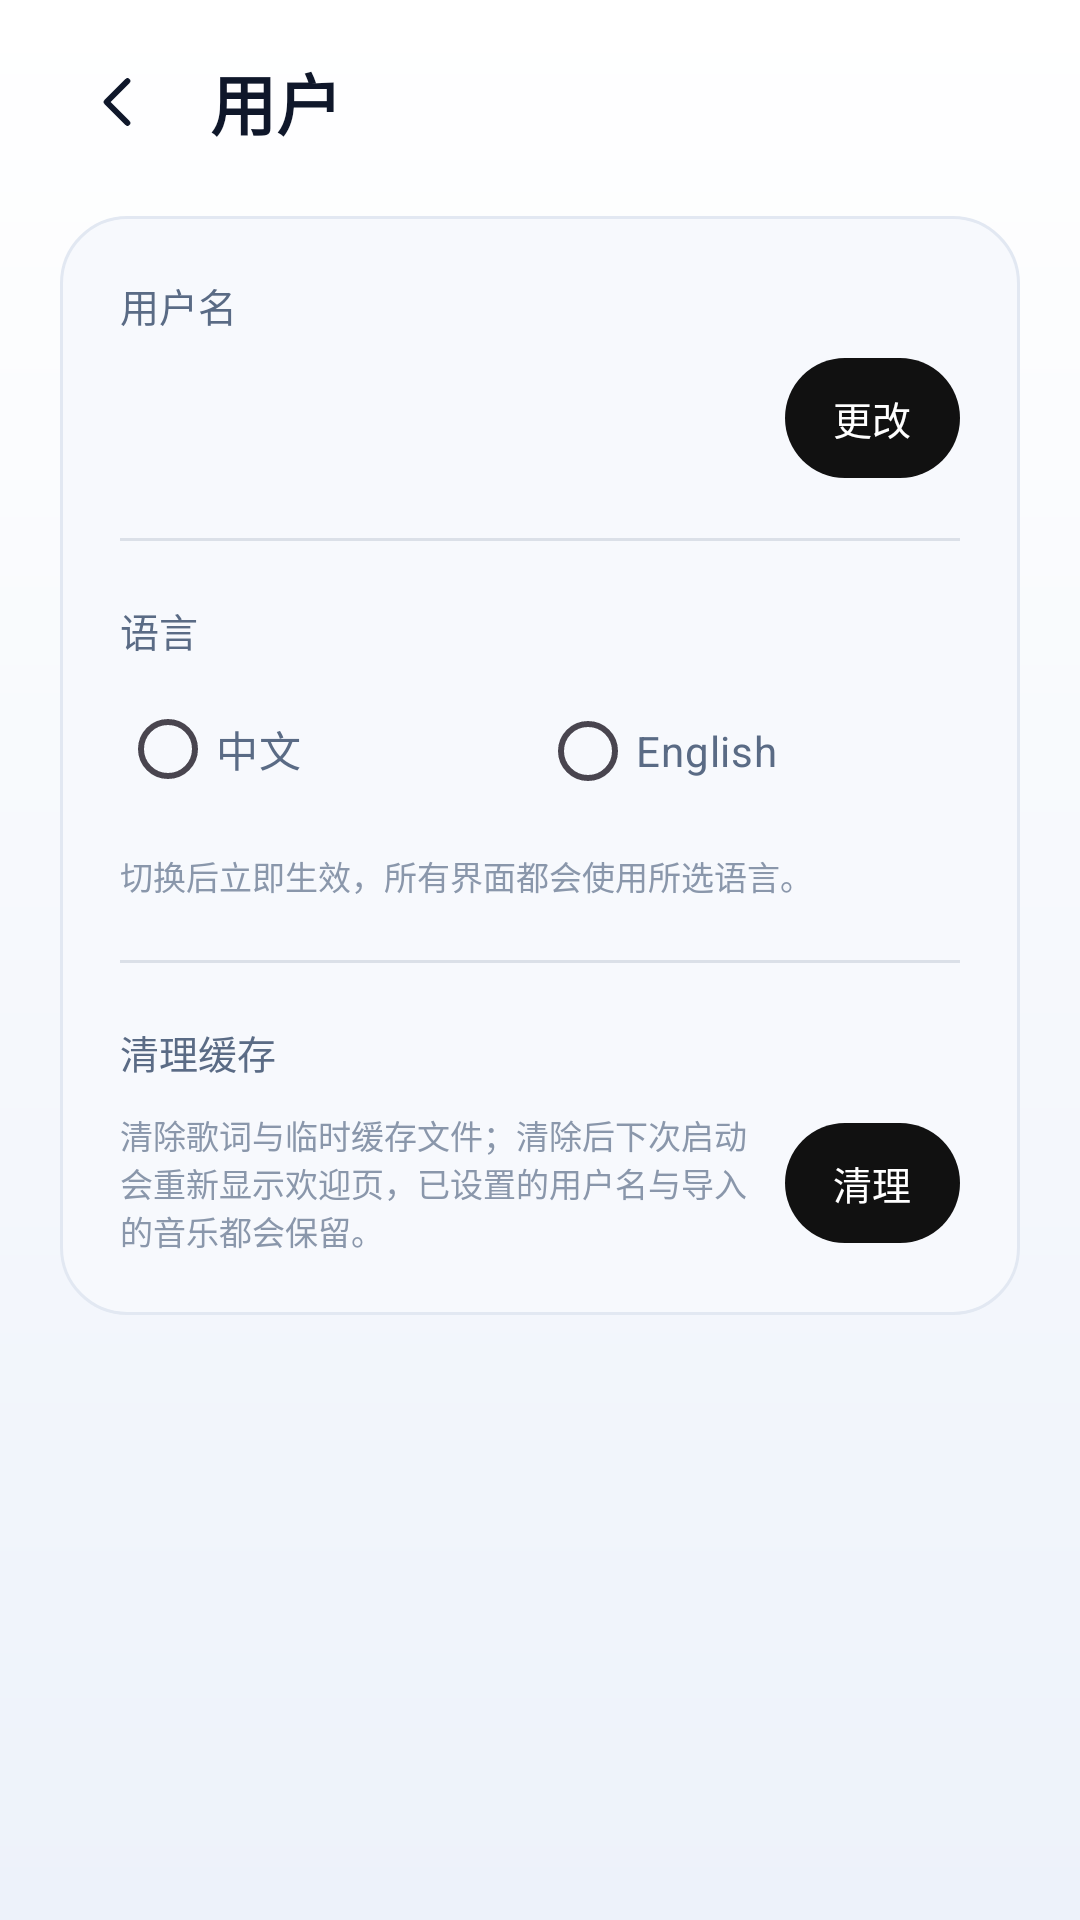

Where icons sit on this 1080px x 1920px app screen, as {"x1": x1, "y1": y1, "x2": x2, "y2": y2}:
返回: {"x1": 103, "y1": 78, "x2": 131, "y2": 126}
